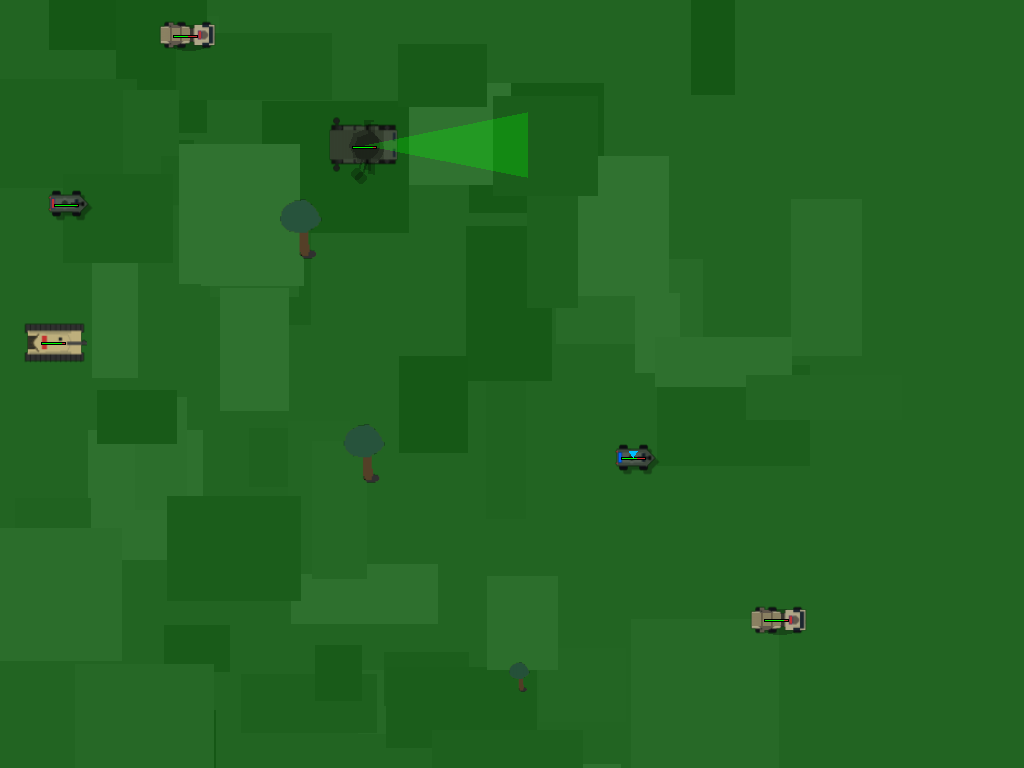ArmoredCar: (47, 184, 84, 221), (614, 438, 651, 475)
HIMARS: (749, 591, 802, 644), (158, 7, 211, 60)
M1A2_usa: (24, 312, 82, 370)
RadarBuilding: (325, 105, 403, 183)
